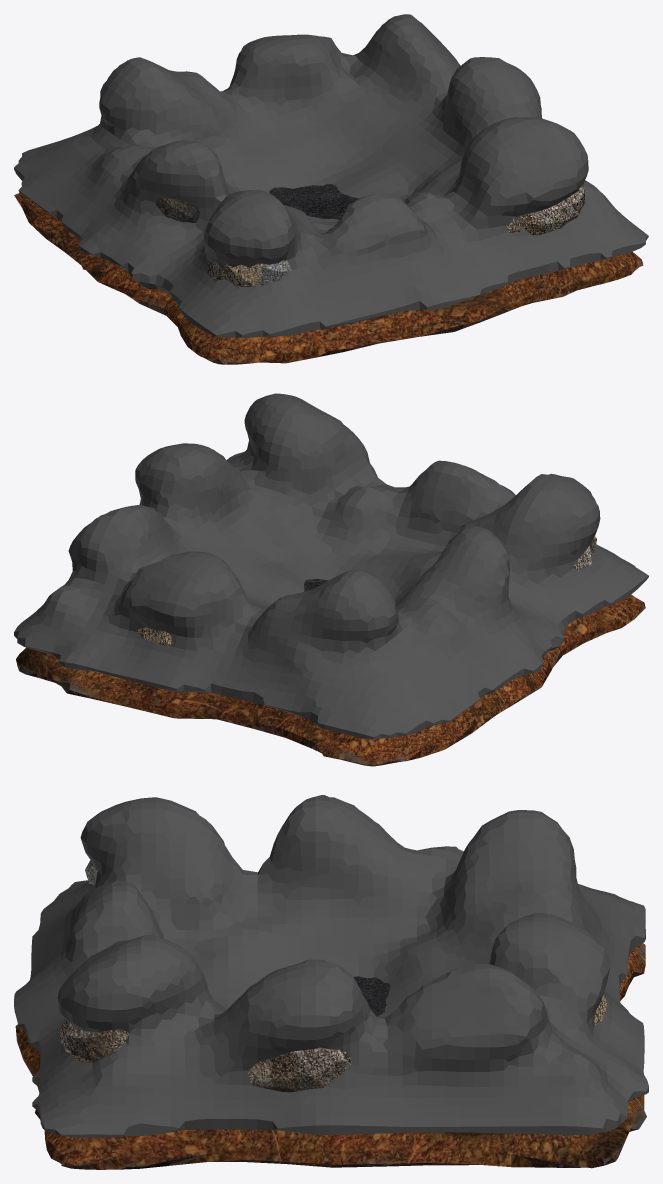
Rendered from campfire.glb.
The picture shows the model from 3 angles, top to bottom: view 1: azimuth 30°, elevation 25°; view 2: azimuth 150°, elevation 25°; view 3: azimuth 270°, elevation 25°; orthographic projection. The views are drawn at different scales.
Visible parts, largest first — view 1: Cube, Retopo_Cube; view 2: Cube, Retopo_Cube; view 3: Cube, Retopo_Cube.
Boxes of the visible parts, x1,y1,x2,y2 form: Cube: [14, 14, 648, 337]; Retopo_Cube: [14, 184, 643, 364]; Cube: [14, 393, 648, 739]; Retopo_Cube: [16, 499, 645, 766]; Cube: [14, 795, 648, 1137]; Retopo_Cube: [15, 860, 646, 1169].
Bounding box in the file's own units: 2.86 × 1.1 × 2.96.
1 material, 1 textured.
